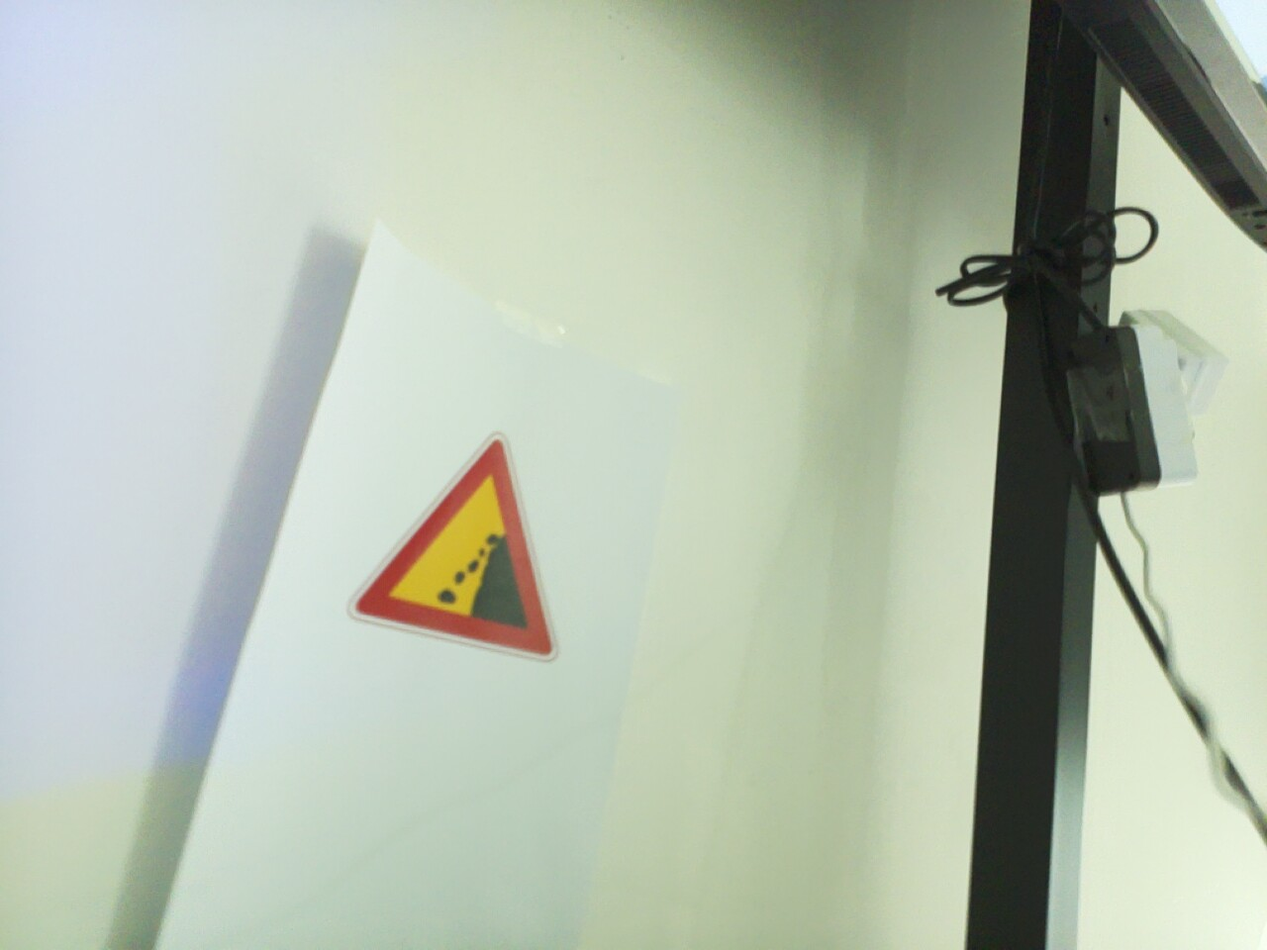falling_rocks: (1078, 69, 1267, 798)
